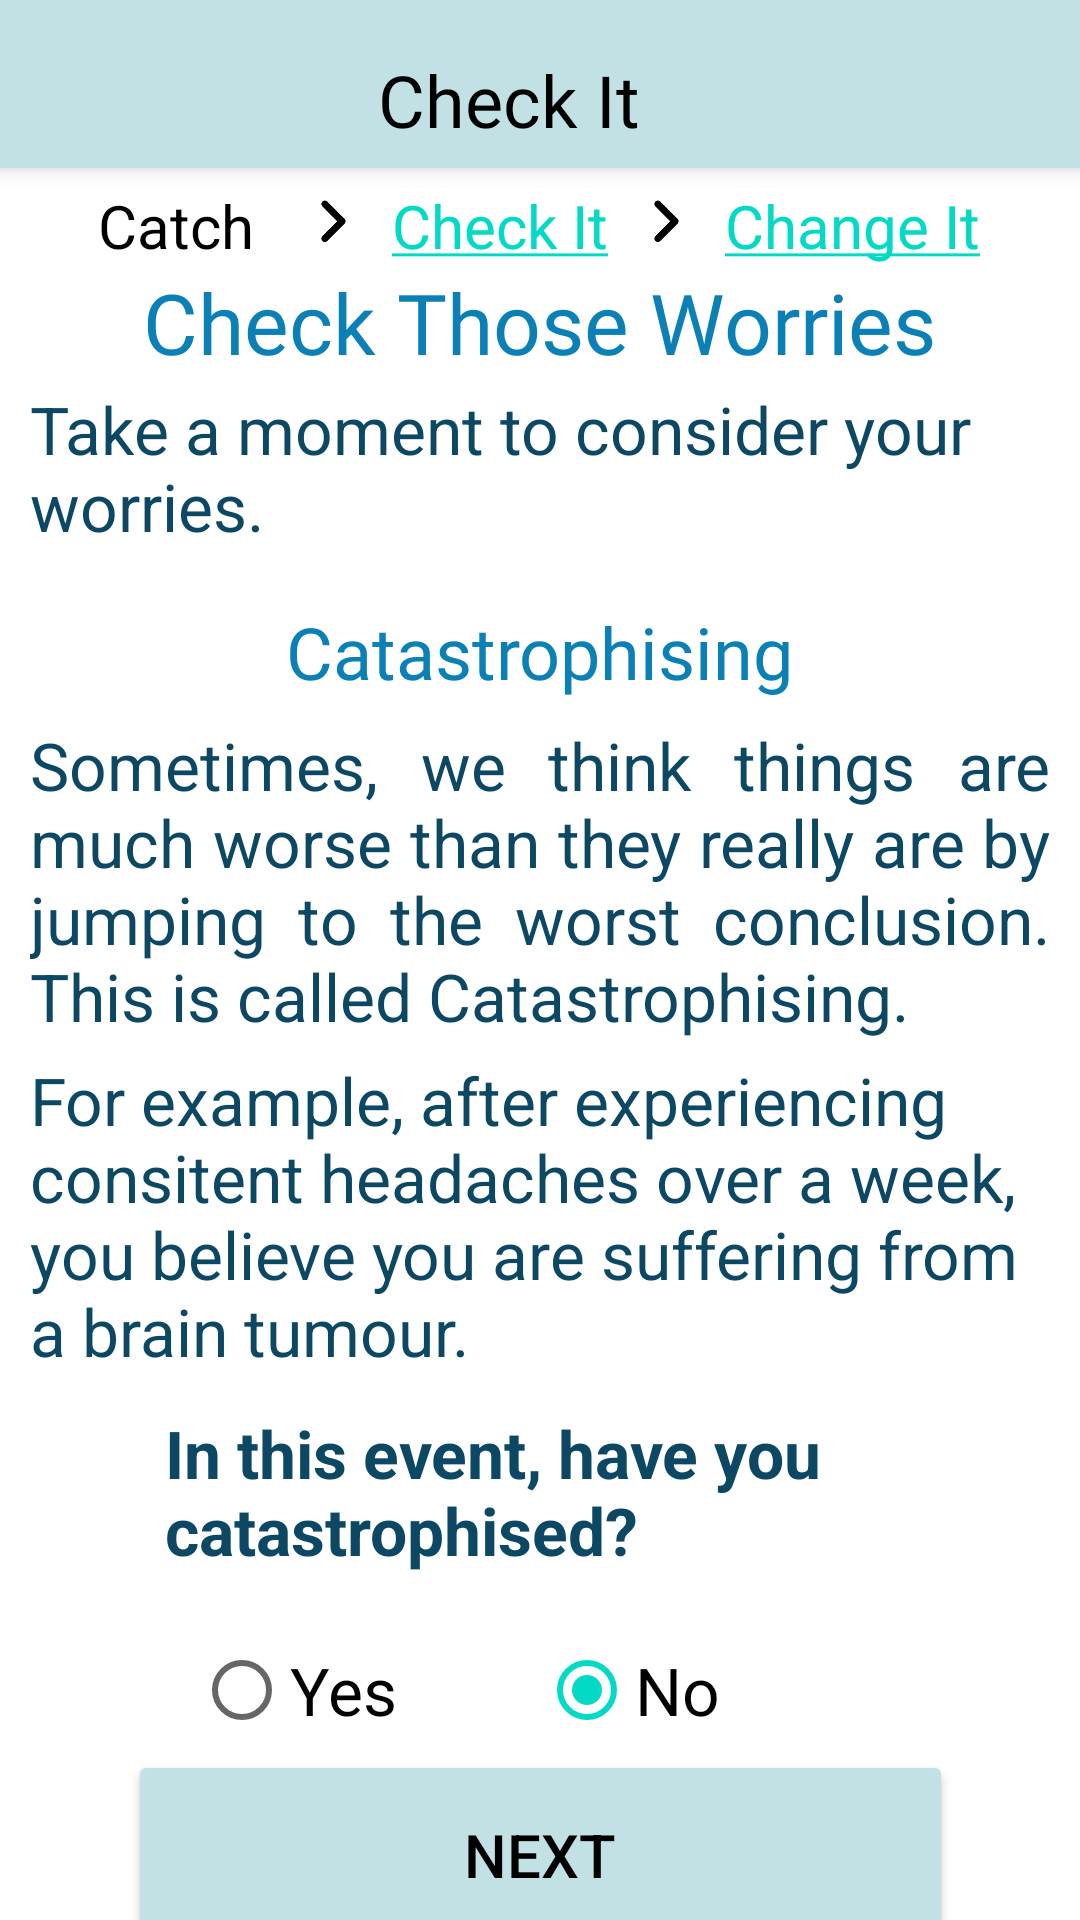

Icon bounding boxes for this 1080x1920 phone screenshot, format (x1, y1, x2, y2):
right: (321, 200, 346, 242), (654, 200, 679, 242)
